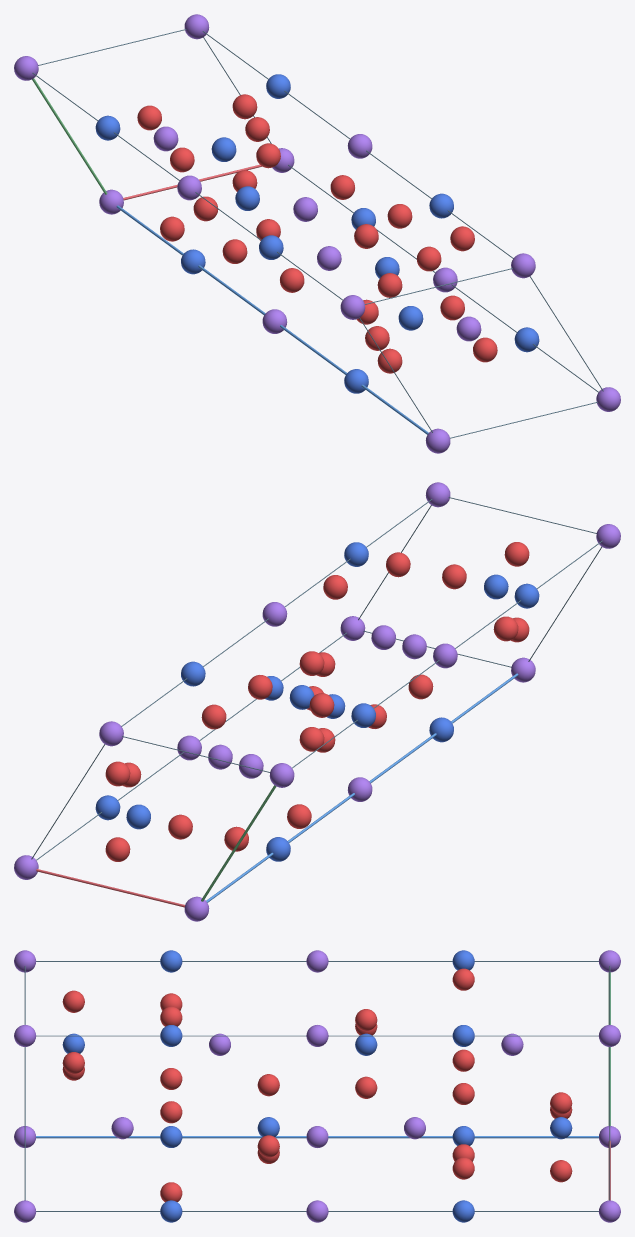
Rendered from chat-nitratine.glb.
3 views of the same model, one above another, from view 1: azimuth 30°, elevation 25°; view 2: azimuth 150°, elevation 25°; view 3: azimuth 270°, elevation 25° (orthographic). The views are drawn at different scales.
Visible parts, largest first — view 1: Ô mạng và các trục a, b, c; view 2: Ô mạng và các trục a, b, c; view 3: Na · Na · 1 (×15), O · O · 1 (×14), Ô mạng và các trục a, b, c, N · N · 1 (×8).
Part boxes in pixels (x1,y1,x2,y2): Ô mạng và các trục a, b, c: (32,29,603,438); Ô mạng và các trục a, b, c: (31,497,602,907); Na · Na · 1 (×15): (14,950,620,1222); O · O · 1 (×14): (62,968,572,1182); Ô mạng và các trục a, b, c: (24,961,610,1211); N · N · 1 (×8): (160,950,572,1222).
Bounding box in the file's own units: 8.24 × 5.03 × 17.46.
